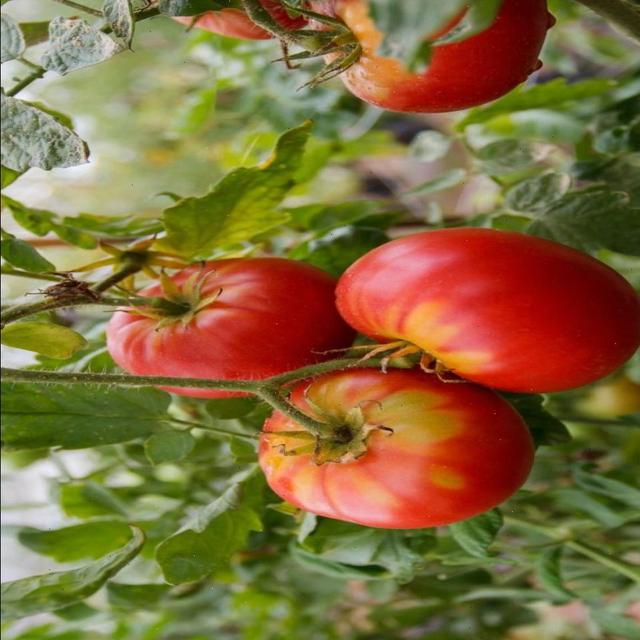Spotted wilt Virus Fruit: (154, 96, 324, 299)
